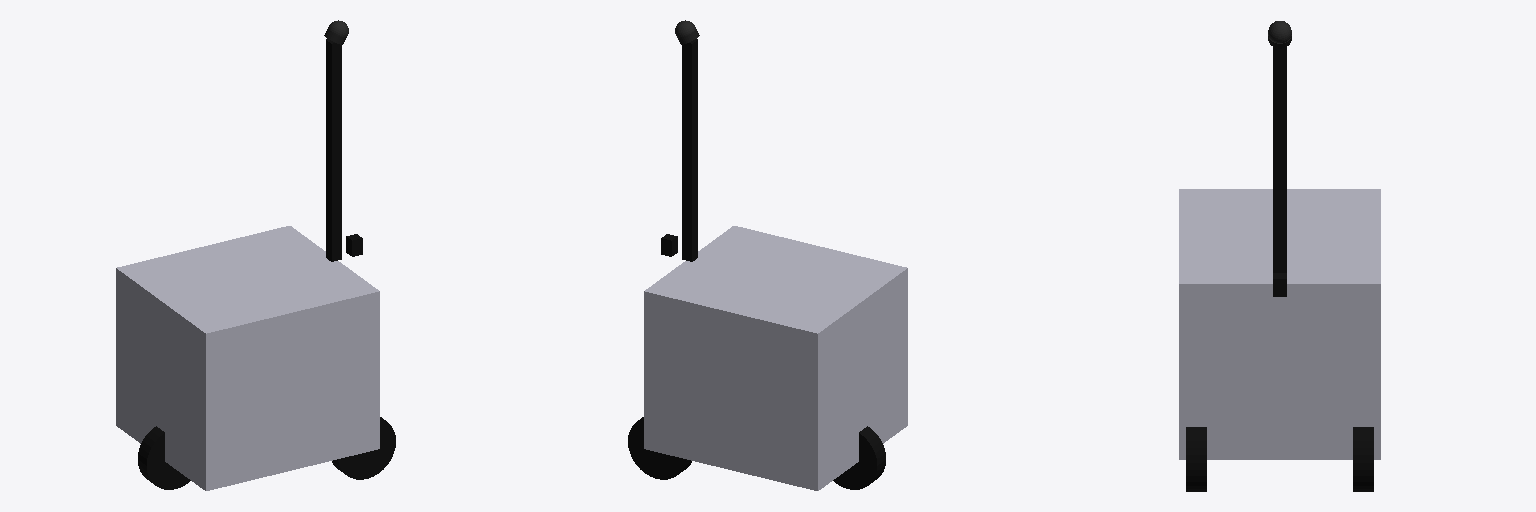
URDF robot description (robot):
<?xml version="1.0" ?>
<!-- =================================================================================== -->
<!-- |    This document was autogenerated by xacro from src/robot_description/urdf/robot.urdf.xacro | -->
<!-- |    EDITING THIS FILE BY HAND IS NOT RECOMMENDED                                 | -->
<!-- =================================================================================== -->
<robot name="robot">
  <material name="aluminum">
    <color rgba="0.5 0.5 0.5 1"/>
  </material>
  <material name="plastic">
    <color rgba="0.1 0.1 0.1 1"/>
  </material>
  <!-- ============================================================
       DIMENSIONS — all in metres

       MEASURED (from real robot):
         Chassis (aluminum extrusion frame): 700 mm(X) × 600 mm(Y) × 300 mm(Z)
         Top plate height above floor: 300 mm
         wheel_radius : 0.1125  (drive_motor.py: wheeles_size=0.1125)
         wheel_right  : x=+0.2064, y=-0.2489  (picking_robot_matrix.hpp)
         wheel_left   : x=+0.2064, y=+0.2489
         wheel_back   : x=-0.3850, y= 0.0000

         Chassis front face (in base_link frame):
           chassis_cx + chassis_length/2 = -0.090 + 0.350 = +0.260 m

         Vertical support column: 40×40 mm cross-section
           Position: x = -0.240 m  (500 mm behind front face)
                     z = chassis_top (0.040 m) to livox_z (0.6875 m)
           col_height = livox_z - chassis_top = 0.6875 - 0.040 = 0.6475 m

         Livox MID360: 800 mm above floor, 500 mm behind front face (+0.260 m)
           → livox_x = +0.260 - 0.500 = -0.240 m  (in base_link frame)
           → livox_z = 0.800 - 0.1125 = 0.6875 m   (in base_link frame)

         RealSense D435 (measured 2026-05-20):
           750 mm above floor, 60 mm forward of front face (x=0.260 m)
           → camera_z = 0.750 - 0.1125 = 0.6375 m  (above base_link)
           → camera_x = 0.260 + 0.060 = 0.320 m
           → camera_y = 0.0 m  (centred on robot)
           Tilt: bracket arm at 60° from vertical (= 30° nose-down) +
                 swing motor at Nav pose 102° (= 12° extra) → 42° total nose-down
           → camera_pitch = 42° = 0.7330 rad  (positive = nose-down about +Y)
           NOTE: represents Nav pose (pan=267°, tilt=102°).
                 Verify against RViz depth image before declaring final.

       base_link origin is at wheel_radius (0.1125 m) above floor.
       The visible chassis is a single 40 mm thick body:
         chassis bottom  = 0.000 m in base_link
         chassis centre  = 0.020 m in base_link
         chassis top     = 0.040 m in base_link
  ============================================================ -->
  <!-- 30 degrees, about base_link Y axis -->
  <!-- 42° nose-down at Nav pose -->
  <!-- ============================================================
       base_footprint  — ground-plane projection (z = 0)
  ============================================================ -->
  <link name="base_footprint"/>
  <joint name="base_footprint_joint" type="fixed">
    <parent link="base_footprint"/>
    <child link="base_link"/>
    <origin rpy="0 0 0" xyz="0 0 0.1125"/>
  </joint>
  <!-- ============================================================
       base_link  — robot reference frame at wheel-axle height
  ============================================================ -->
  <link name="base_link">
    <!-- ── VEHICLE BODY BOX SHOWN IN RVIZ ──
         This is the visible chassis/body geometry.
         It uses the chassis_* properties defined above. -->
    <visual>
      <origin rpy="0 0 0" xyz="-0.09 0 0.2875"/>
      <geometry>
        <box size="0.67 0.6 0.58"/>
      </geometry>
      <material name="aluminium">
        <color rgba="0.75 0.75 0.80 1.0"/>
      </material>
    </visual>
    <!-- ── LiDAR support column shown in RViz (40×40 mm, height = livox_z - chassis_top)
         X follows livox_x so the pole is always directly below the LiDAR ── -->
    <visual>
      <origin rpy="0 0 0" xyz="0.24 0 0.97875"/>
      <geometry>
        <box size="0.04 0.04 0.8024999999999999"/>
      </geometry>
      <material name="column_black">
        <color rgba="0.10 0.10 0.10 1.0"/>
      </material>
    </visual>
    <!-- ── Front camera support column shown in RViz ── -->
    <visual>
      <origin rpy="0 0 0" xyz="0.32 0.0 0.6074999999999999"/>
      <geometry>
        <box size="0.04 0.04 0.05999999999999994"/>
      </geometry>
      <material name="column_black"/>
    </visual>
    <!-- Collision: chassis only -->
    <collision>
      <origin rpy="0 0 0" xyz="-0.09 0 0.2875"/>
      <geometry>
        <box size="0.67 0.6 0.58"/>
      </geometry>
    </collision>
    <inertial>
      <mass value="12.0"/>
      <origin xyz="-0.09 0 0.2875"/>
      <inertia ixx="0.15" ixy="0" ixz="0" iyy="0.20" iyz="0" izz="0.30"/>
    </inertial>
  </link>
  <!-- Fixed root of the D435 Pan assembly.  Lift/Arm is an independent
       base_link child tree and must never be attached below this mechanism. -->
  <link name="camera_pan_mount_base"/>
  <joint name="camera_pan_mount_base_joint" type="fixed">
    <parent link="base_link"/>
    <child link="camera_pan_mount_base"/>
    <origin rpy="0 0 0" xyz="0 0 0"/>
  </joint>
  <!-- Calibrated camera mechanism.  The two measured axes are perpendicular
       to each other, but neither is assumed parallel/perpendicular to the
       ground.  Their offset origins make the camera translate and rotate on a
       spherical-like path.  Joint zero is raw Pan/Tilt 267.1/101.8 and exactly
       preserves the previously accepted reference camera pose. -->
  <link name="camera_pan_yaw_link"/>
  <joint name="camera_pan_joint" type="continuous">
    <parent link="camera_pan_mount_base"/>
    <child link="camera_pan_yaw_link"/>
    <origin rpy="-0.089556855403 0.579262362186 -0.049115982794" xyz="0.275347145321 -0.000438733450 0.622500000000"/>
    <axis xyz="0 0 1"/>
  </joint>
  <link name="camera_tilt_link"/>
  <joint name="camera_tilt_joint" type="continuous">
    <parent link="camera_pan_yaw_link"/>
    <child link="camera_tilt_link"/>
    <origin rpy="-1.570796326795 -0.581108340978 0.004638247831" xyz="0.001737198863 -0.002619645084 0.042896615248"/>
    <axis xyz="0 0 1"/>
  </joint>
  <link name="realsense_holder_link"/>
  <joint name="realsense_holder_joint" type="fixed">
    <parent link="camera_tilt_link"/>
    <child link="realsense_holder_link"/>
    <origin rpy="1.560992063022 -0.025811462780 0.744796019674" xyz="0.017905936677 0.026217766275 0.002718024006"/>
  </joint>
  <!-- ============================================================
       WHEELS  — visual only, fixed joints
       rpy="1.5708 0 0" rotates cylinder axis from Z to Y
  ============================================================ -->
  <!-- Wheel RIGHT  (drive motor 1 / steer motor ID 11) -->
  <joint name="wheel_right_joint" type="fixed">
    <parent link="base_link"/>
    <child link="wheel_right"/>
    <origin rpy="0 0 0" xyz="0.2064 -0.2489 0"/>
  </joint>
  <link name="wheel_right">
    <visual>
      <origin rpy="1.5708 0 0" xyz="0 0 0"/>
      <geometry>
        <cylinder length="0.06" radius="0.1125"/>
      </geometry>
      <material name="rubber_dark">
        <color rgba="0.10 0.10 0.10 1.0"/>
      </material>
    </visual>
    <collision>
      <origin rpy="1.5708 0 0" xyz="0 0 0"/>
      <geometry>
        <cylinder length="0.06" radius="0.1125"/>
      </geometry>
    </collision>
    <inertial>
      <mass value="1.0"/>
      <inertia ixx="0.007" ixy="0" ixz="0" iyy="0.007" iyz="0" izz="0.013"/>
    </inertial>
  </link>
  <!-- Wheel LEFT  (drive motor 2 / steer motor ID 12) -->
  <joint name="wheel_left_joint" type="fixed">
    <parent link="base_link"/>
    <child link="wheel_left"/>
    <origin rpy="0 0 0" xyz="0.2064 0.2489 0"/>
  </joint>
  <link name="wheel_left">
    <visual>
      <origin rpy="1.5708 0 0" xyz="0 0 0"/>
      <geometry>
        <cylinder length="0.06" radius="0.1125"/>
      </geometry>
      <material name="rubber_dark"/>
    </visual>
    <collision>
      <origin rpy="1.5708 0 0" xyz="0 0 0"/>
      <geometry>
        <cylinder length="0.06" radius="0.1125"/>
      </geometry>
    </collision>
    <inertial>
      <mass value="1.0"/>
      <inertia ixx="0.007" ixy="0" ixz="0" iyy="0.007" iyz="0" izz="0.013"/>
    </inertial>
  </link>
  <!-- Wheel BACK  (drive motor 3 / steer motor ID 13) -->
  <joint name="wheel_back_joint" type="fixed">
    <parent link="base_link"/>
    <child link="wheel_back"/>
    <origin rpy="0 0 0" xyz="-0.385 0.0 0"/>
  </joint>
  <link name="wheel_back">
    <visual>
      <origin rpy="1.5708 0 0" xyz="0 0 0"/>
      <geometry>
        <cylinder length="0.06" radius="0.1125"/>
      </geometry>
      <material name="rubber_dark"/>
    </visual>
    <collision>
      <origin rpy="1.5708 0 0" xyz="0 0 0"/>
      <geometry>
        <cylinder length="0.06" radius="0.1125"/>
      </geometry>
    </collision>
    <inertial>
      <mass value="1.0"/>
      <inertia ixx="0.007" ixy="0" ixz="0" iyy="0.007" iyz="0" izz="0.013"/>
    </inertial>
  </link>
  <joint name="livox_frame_joint" type="fixed">
    <origin rpy="0 0.5236 0" xyz="0.24 0.0 1.38"/>
    <parent link="base_link"/>
    <child link="livox_frame"/>
  </joint>
  <link name="livox_frame">
    <!-- Flat cylindrical base / mounting body  (Φ70.4 × 25 mm) -->
    <visual>
      <origin rpy="0 0 0" xyz="0 0 0.0125"/>
      <geometry>
        <cylinder length="0.025" radius="0.0352"/>
      </geometry>
      <material name="livox_body">
        <color rgba="0.15 0.15 0.15 1.0"/>
      </material>
    </visual>
    <!-- Hemisphere dome  (radius 35.2 mm, centred at top of base cylinder)
           A full sphere visually reads as a dome when the flat cylinder
           sits below it — this is the half-sphere appearance requested.  -->
    <visual>
      <origin rpy="0 0 0" xyz="0 0 0.0352"/>
      <geometry>
        <sphere radius="0.0352"/>
      </geometry>
      <material name="livox_dome">
        <color rgba="0.20 0.20 0.20 1.0"/>
      </material>
    </visual>
    <!-- Collision: single cylinder covering full body -->
    <collision>
      <origin rpy="0 0 0" xyz="0 0 0.0325"/>
      <geometry>
        <cylinder length="0.065" radius="0.0352"/>
      </geometry>
    </collision>
    <inertial>
      <mass value="0.265"/>
      <origin xyz="0 0 0.032"/>
      <inertia ixx="0.0002" ixy="0" ixz="0" iyy="0.0002" iyz="0" izz="0.0001"/>
    </inertial>
  </link>
  <!-- camera body, with origin at bottom screw mount -->
  <joint name="camera_joint" type="fixed">
    <origin rpy="0 0 0" xyz="0 0 0"/>
    <parent link="realsense_holder_link"/>
    <child link="camera_bottom_screw_frame"/>
  </joint>
  <link name="camera_bottom_screw_frame"/>
  <joint name="camera_link_joint" type="fixed">
    <origin rpy="0 0 0" xyz="0.010600000000000002 0.0175 0.0125"/>
    <parent link="camera_bottom_screw_frame"/>
    <child link="camera_link"/>
  </joint>
  <link name="camera_link">
    <visual>
      <!-- the mesh origin is at front plate in between the two infrared camera axes -->
      <origin rpy="1.5707963267948966 0 1.5707963267948966" xyz="0.0043 -0.0175 0"/>
      <geometry>
        <mesh filename="../../meshes/realsense/d435.dae"/>
      </geometry>
    </visual>
    <collision>
      <origin rpy="0 0 0" xyz="0 -0.0175 0"/>
      <geometry>
        <box size="0.02505 0.09 0.025"/>
      </geometry>
    </collision>
    <inertial>
      <!-- The following are not reliable values, and should not be used for modeling -->
      <mass value="0.072"/>
      <origin xyz="0 0 0"/>
      <inertia ixx="0.003881243" ixy="0.0" ixz="0.0" iyy="0.000498940" iyz="0.0" izz="0.003879257"/>
    </inertial>
  </link>
  <!-- camera depth joints and links -->
  <joint name="camera_depth_joint" type="fixed">
    <origin rpy="0 0 0" xyz="0 0 0"/>
    <parent link="camera_link"/>
    <child link="camera_depth_frame"/>
  </joint>
  <link name="camera_depth_frame"/>
  <joint name="camera_depth_optical_joint" type="fixed">
    <origin rpy="-1.5707963267948966 0 -1.5707963267948966" xyz="0 0 0"/>
    <parent link="camera_depth_frame"/>
    <child link="camera_depth_optical_frame"/>
  </joint>
  <link name="camera_depth_optical_frame"/>
  <!-- camera left IR joints and links -->
  <joint name="camera_infra1_joint" type="fixed">
    <origin rpy="0 0 0" xyz="0 0.0 0"/>
    <parent link="camera_link"/>
    <child link="camera_infra1_frame"/>
  </joint>
  <link name="camera_infra1_frame"/>
  <joint name="camera_infra1_optical_joint" type="fixed">
    <origin rpy="-1.5707963267948966 0 -1.5707963267948966" xyz="0 0 0"/>
    <parent link="camera_infra1_frame"/>
    <child link="camera_infra1_optical_frame"/>
  </joint>
  <link name="camera_infra1_optical_frame"/>
  <!-- camera right IR joints and links -->
  <joint name="camera_infra2_joint" type="fixed">
    <origin rpy="0 0 0" xyz="0 -0.05 0"/>
    <parent link="camera_link"/>
    <child link="camera_infra2_frame"/>
  </joint>
  <link name="camera_infra2_frame"/>
  <joint name="camera_infra2_optical_joint" type="fixed">
    <origin rpy="-1.5707963267948966 0 -1.5707963267948966" xyz="0 0 0"/>
    <parent link="camera_infra2_frame"/>
    <child link="camera_infra2_optical_frame"/>
  </joint>
  <link name="camera_infra2_optical_frame"/>
  <!-- camera color joints and links -->
  <joint name="camera_color_joint" type="fixed">
    <origin rpy="0 0 0" xyz="0 0.015 0"/>
    <parent link="camera_link"/>
    <child link="camera_color_frame"/>
  </joint>
  <link name="camera_color_frame"/>
  <joint name="camera_color_optical_joint" type="fixed">
    <origin rpy="-1.5707963267948966 0 -1.5707963267948966" xyz="0 0 0"/>
    <parent link="camera_color_frame"/>
    <child link="camera_color_optical_frame"/>
  </joint>
  <link name="camera_color_optical_frame"/>
</robot>

--- Render facts (derived) ---
The picture shows the robot from 3 angles, left to right: view 1: azimuth 30°, elevation 25°; view 2: azimuth 150°, elevation 25°; view 3: azimuth 270°, elevation 25°; orthographic projection.
Robot: robot — 20 links, 19 joints (2 continuous, 17 fixed); root link base_footprint; default pose: all joints at 0.
Visible links, largest first — view 1: base_link, wheel_back, wheel_right; view 2: base_link, wheel_back, wheel_left; view 3: base_link, wheel_right, wheel_left, livox_frame.
Boxes of the visible links, x1,y1,x2,y2 form: base_link: [116, 39, 379, 490]; wheel_back: [138, 426, 190, 489]; wheel_right: [332, 417, 395, 479]; base_link: [644, 39, 907, 490]; wheel_back: [833, 426, 885, 489]; wheel_left: [628, 417, 691, 479]; base_link: [1179, 47, 1380, 459]; wheel_right: [1186, 427, 1206, 491]; wheel_left: [1353, 427, 1373, 491]; livox_frame: [1268, 21, 1291, 48].
Size in the robot's own frame: 0.8375 by 0.6 by 1.56 metres.
Meshes: 1 distinct files referenced, 0 mesh visuals loaded (none loaded); not drawn: 1 (reference not matched to a file when rendering).
